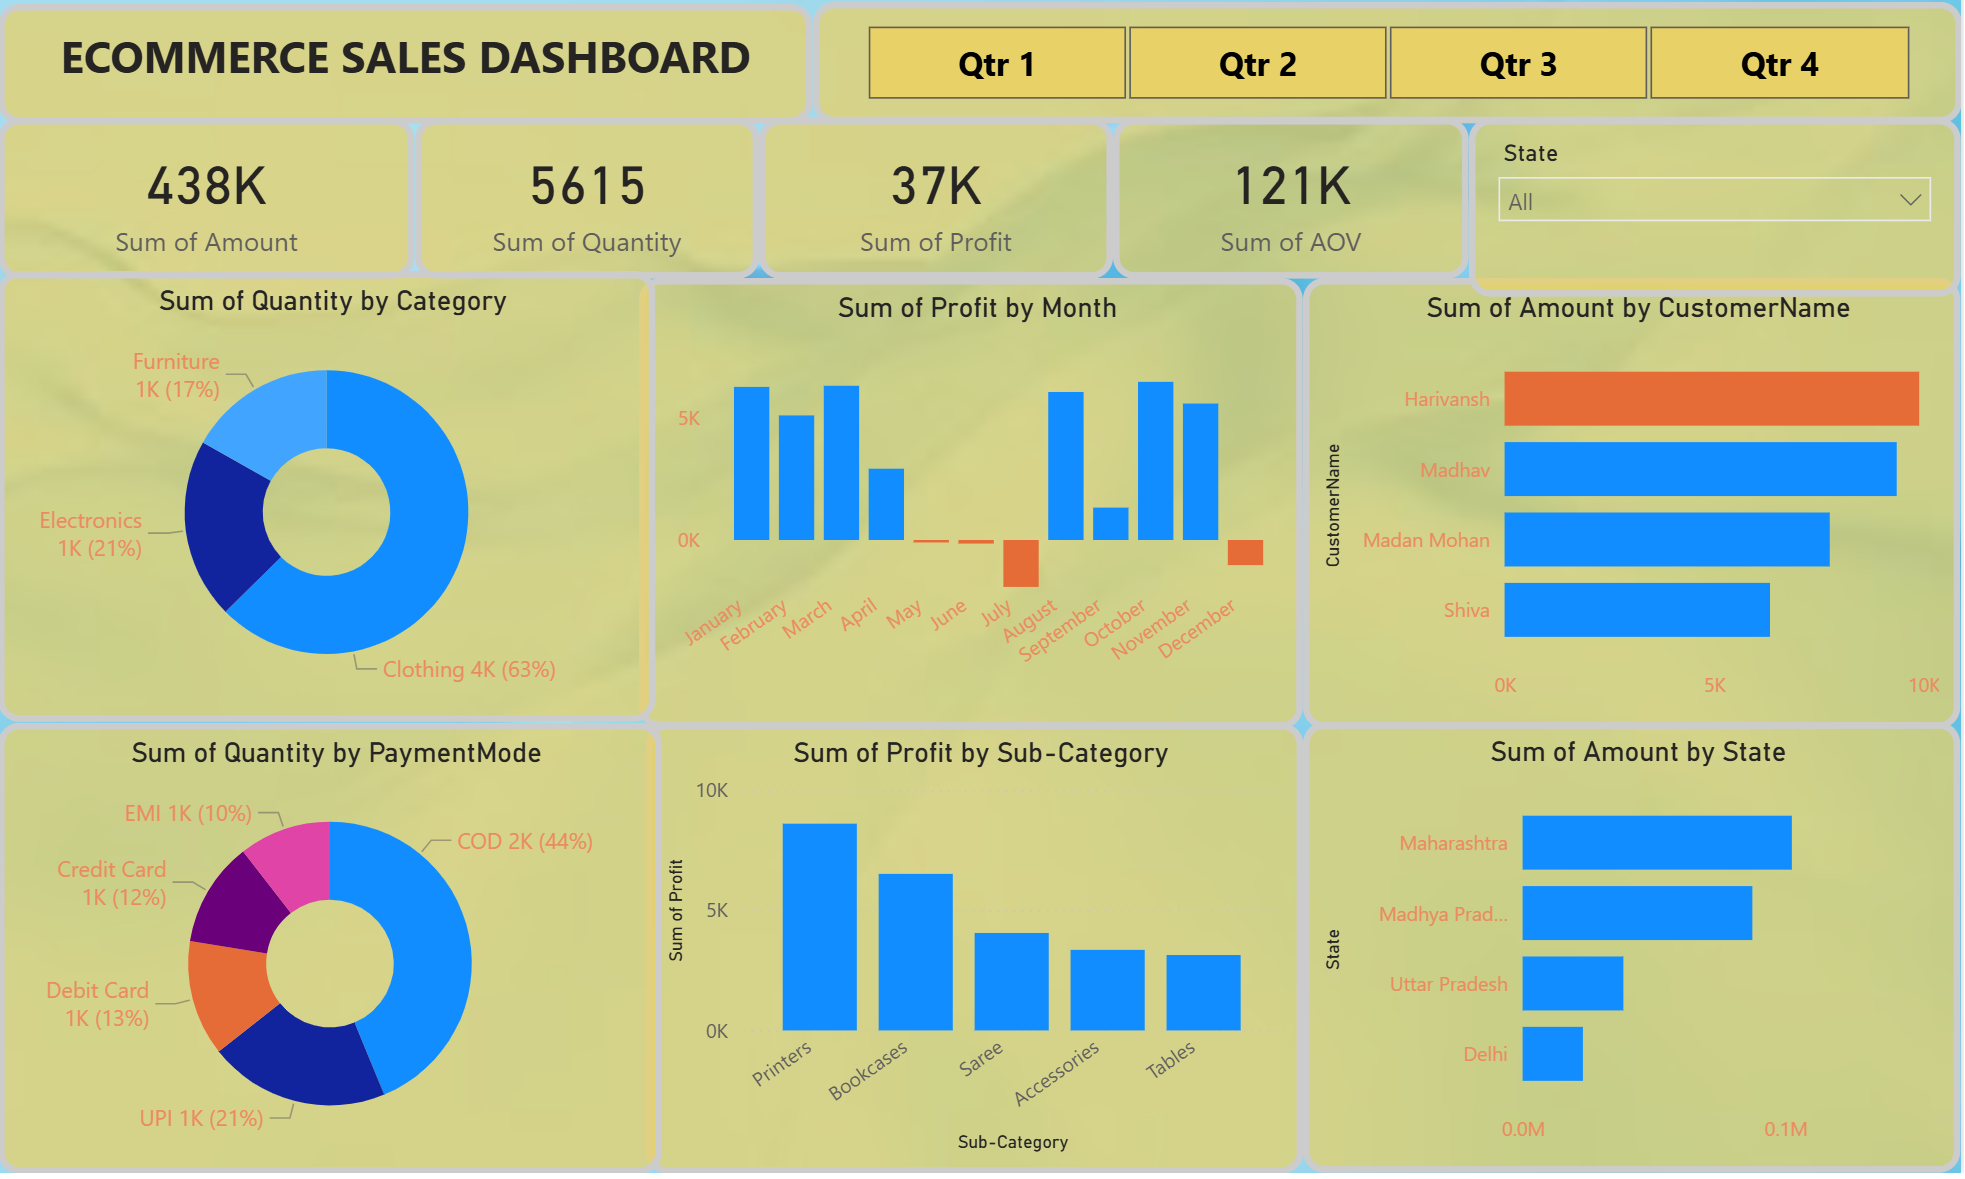

What the dashboard file says about the page in this screenshot:
{"tool":"powerbi","page":{"name":"Page 1","canvas":[1280,720],"ordinal":0},"visuals":[{"type":"textbox","box":[82.4,6.7,497.3,72.6],"z":0},{"type":"columnChart","fields":{"Y":["Sum(Details ECOMMERCE SALE.Profit)"],"Category":["Orders ECOMMERC.Order Date.Variation.Date Hierarchy.Month"]},"box":[473.5,173.9,405.2,274.6],"z":1000},{"type":"columnChart","fields":{"Category":["Details ECOMMERCE SALE.Sub-Category"],"Y":["Sum(Details ECOMMERCE SALE.Profit)"]},"box":[477.8,445.4,400.9,274.6],"z":2000},{"type":"donutChart","fields":{"Category":["Details ECOMMERCE SALE.Category"],"Y":["Sum(Details ECOMMERCE SALE.Quantity)"]},"box":[82.4,169.6,400.9,275.2],"z":3000},{"type":"donutChart","fields":{"Category":["Details ECOMMERCE SALE.PaymentMode"],"Y":["Sum(Details ECOMMERCE SALE.Quantity)"]},"box":[82.4,445.4,405.2,274.6],"z":4000},{"type":"card","fields":{"Values":["Sum(Details ECOMMERCE SALE.Amount)"]},"box":[82.4,76.3,254.4,97.6],"z":5000},{"type":"card","fields":{"Values":["Sum(Details ECOMMERCE SALE.Quantity)"]},"box":[336.8,76.3,209.9,97.6],"z":6000},{"type":"card","fields":{"Values":["Sum(Details ECOMMERCE SALE.Profit)"]},"box":[546.7,76.3,216,97.6],"z":7000},{"type":"card","fields":{"Values":["Sum(Details ECOMMERCE SALE.AOV)"]},"box":[762.7,76.3,217.2,97.6],"z":8000},{"type":"clusteredBarChart","fields":{"Category":["Orders ECOMMERC.State"],"Y":["Sum(Details ECOMMERCE SALE.Amount)"]},"box":[878.6,445,401.4,274.6],"z":8001},{"type":"clusteredBarChart","fields":{"Category":["Orders ECOMMERC.CustomerName"],"Y":["Sum(Details ECOMMERCE SALE.Amount)"]},"box":[878.5,173.9,401.5,274.6],"z":8002},{"type":"slicer","fields":{"Values":["Orders ECOMMERC.Order Date.Variation.Date Hierarchy.Quarter"]},"box":[579.4,5.7,700.6,73.8],"z":8003},{"type":"slicer","fields":{"Values":["Orders ECOMMERC.State"]},"box":[979.9,76.3,300.2,108.6],"z":8004}]}

Visuals, with their boxes on the page's 1280x720 design canvas (x1, y1, x2, y2). These are canvas units, not pixel positions in the 1965x1179 screenshot, which may show the page scaled, cropped or inside an application window:
textbox: x1=82, y1=7, x2=580, y2=79
columnChart - Sum(Details ECOMMERCE SALE.Profit) x Orders ECOMMERC.Order Date.Variation.Date Hierarchy.Month: x1=474, y1=174, x2=879, y2=448
columnChart - Details ECOMMERCE SALE.Sub-Category x Sum(Details ECOMMERCE SALE.Profit): x1=478, y1=445, x2=879, y2=720
donutChart - Details ECOMMERCE SALE.Category x Sum(Details ECOMMERCE SALE.Quantity): x1=82, y1=170, x2=483, y2=445
donutChart - Details ECOMMERCE SALE.PaymentMode x Sum(Details ECOMMERCE SALE.Quantity): x1=82, y1=445, x2=488, y2=720
card - Sum(Details ECOMMERCE SALE.Amount): x1=82, y1=76, x2=337, y2=174
card - Sum(Details ECOMMERCE SALE.Quantity): x1=337, y1=76, x2=547, y2=174
card - Sum(Details ECOMMERCE SALE.Profit): x1=547, y1=76, x2=763, y2=174
card - Sum(Details ECOMMERCE SALE.AOV): x1=763, y1=76, x2=980, y2=174
clusteredBarChart - Orders ECOMMERC.State x Sum(Details ECOMMERCE SALE.Amount): x1=879, y1=445, x2=1280, y2=720
clusteredBarChart - Orders ECOMMERC.CustomerName x Sum(Details ECOMMERCE SALE.Amount): x1=878, y1=174, x2=1280, y2=448
slicer - Orders ECOMMERC.Order Date.Variation.Date Hierarchy.Quarter: x1=579, y1=6, x2=1280, y2=80
slicer - Orders ECOMMERC.State: x1=980, y1=76, x2=1280, y2=185
